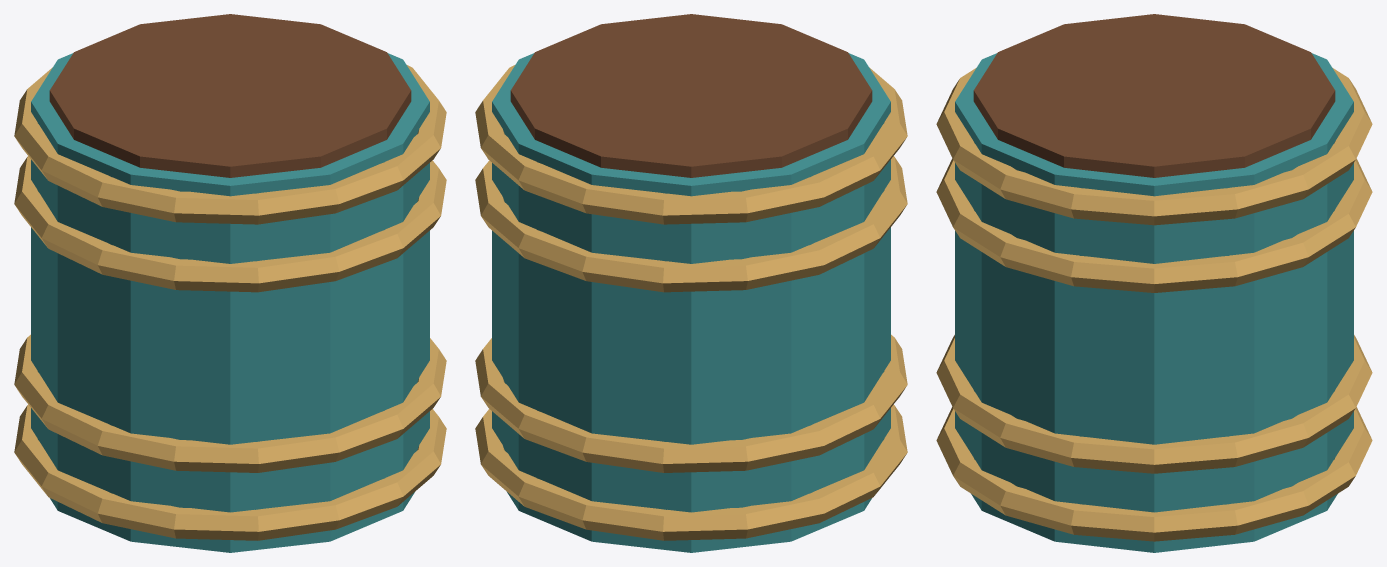
File: barrel.glb
3 renders of one model, left to right at view 1: azimuth 30°, elevation 25°; view 2: azimuth 150°, elevation 25°; view 3: azimuth 270°, elevation 25°, orthographic.
Parts seen in each view (by area): view 1: Painted barrel, Wooden lid, Barrel hoop.003, Barrel hoop.001, Barrel hoop.002, Barrel hoop; view 2: Painted barrel, Wooden lid, Barrel hoop.003, Barrel hoop.001, Barrel hoop.002, Barrel hoop; view 3: Painted barrel, Wooden lid, Barrel hoop.003, Barrel hoop.001, Barrel hoop, Barrel hoop.002.
Boxes of the visible parts, left/top/right/bottom form: Painted barrel: left=31, top=53, right=429, bottom=552; Wooden lid: left=49, top=14, right=411, bottom=177; Barrel hoop.003: left=14, top=65, right=446, bottom=224; Barrel hoop.001: left=14, top=334, right=446, bottom=472; Barrel hoop.002: left=14, top=156, right=446, bottom=292; Barrel hoop: left=14, top=404, right=446, bottom=540; Painted barrel: left=492, top=53, right=890, bottom=552; Wooden lid: left=510, top=14, right=872, bottom=177; Barrel hoop.003: left=475, top=65, right=907, bottom=224; Barrel hoop.001: left=475, top=334, right=907, bottom=472; Barrel hoop.002: left=475, top=156, right=907, bottom=292; Barrel hoop: left=475, top=404, right=907, bottom=540; Painted barrel: left=955, top=53, right=1353, bottom=552; Wooden lid: left=973, top=14, right=1335, bottom=177; Barrel hoop.003: left=936, top=68, right=1372, bottom=225; Barrel hoop.001: left=936, top=335, right=1372, bottom=473; Barrel hoop: left=936, top=407, right=1372, bottom=541; Barrel hoop.002: left=936, top=158, right=1372, bottom=292.
Bounding box in the file's own units: 0.7 × 0.67 × 0.7.
